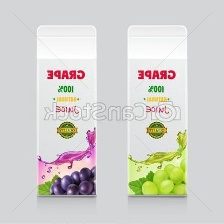carton: (27, 23, 102, 203), (124, 21, 194, 199)
